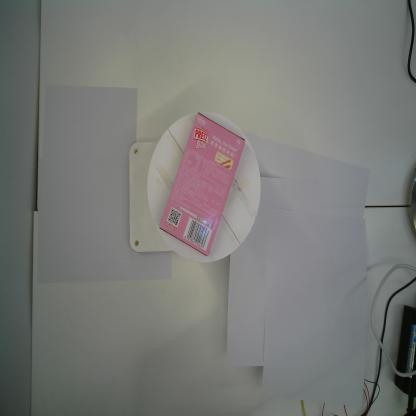Dessert: (158, 111, 246, 258)
